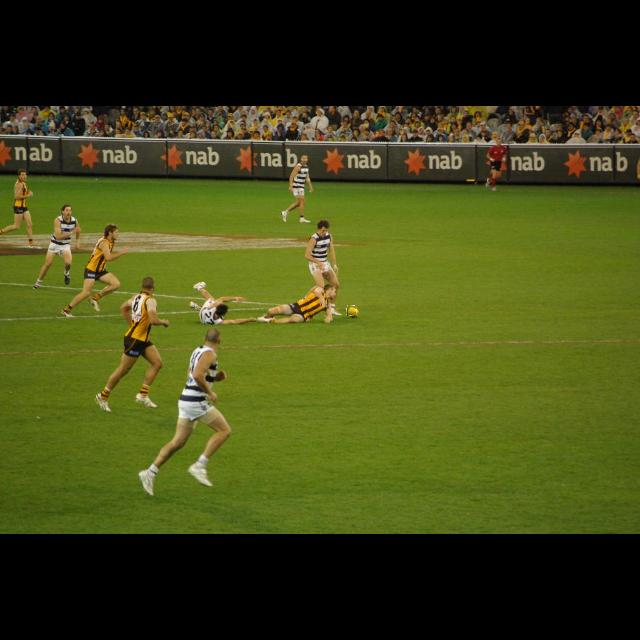Football: (347, 306, 357, 316)
